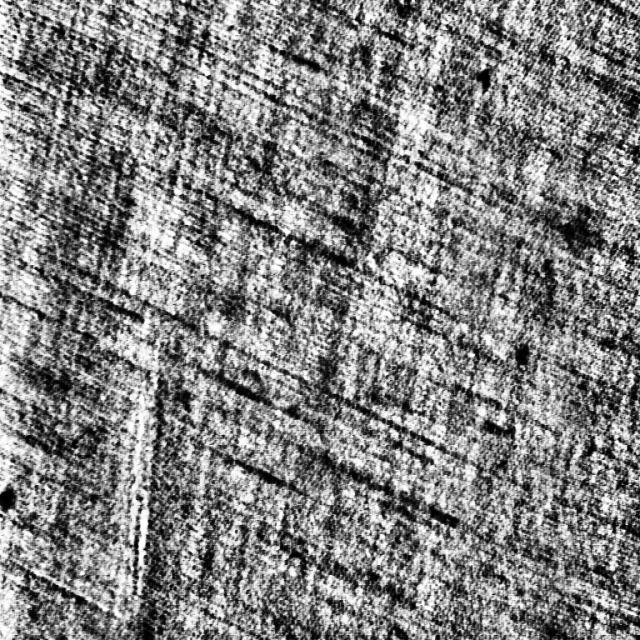Stitch: (122, 300, 160, 595)
